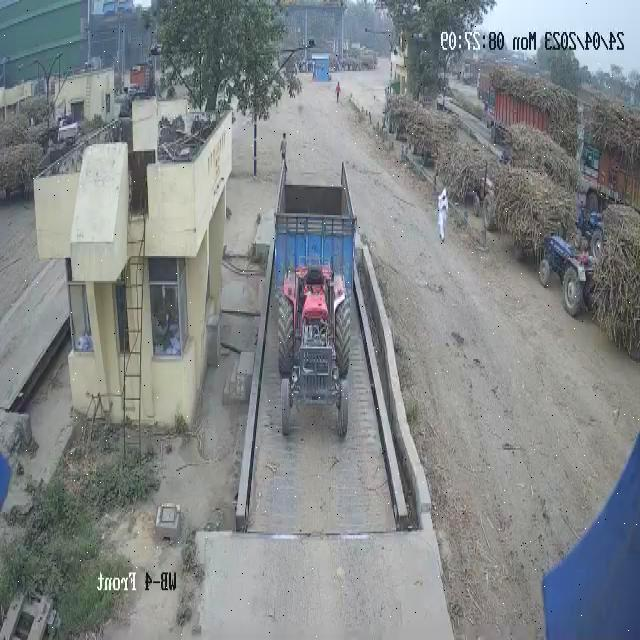Tratores - v5 YOLO V8L 2024-11-13: (274, 261, 354, 452), (536, 240, 590, 318), (576, 205, 610, 249)
